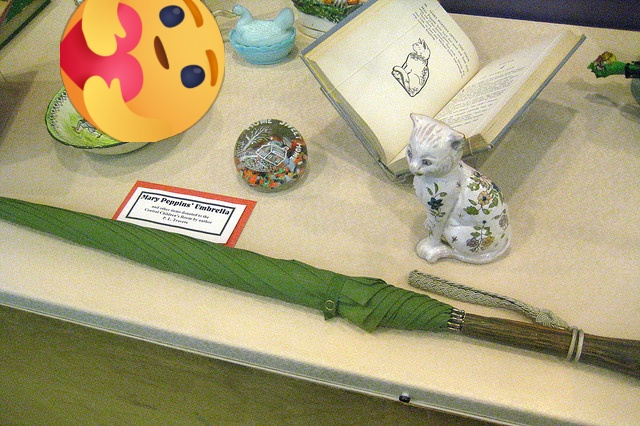care: (60, 0, 225, 142)
